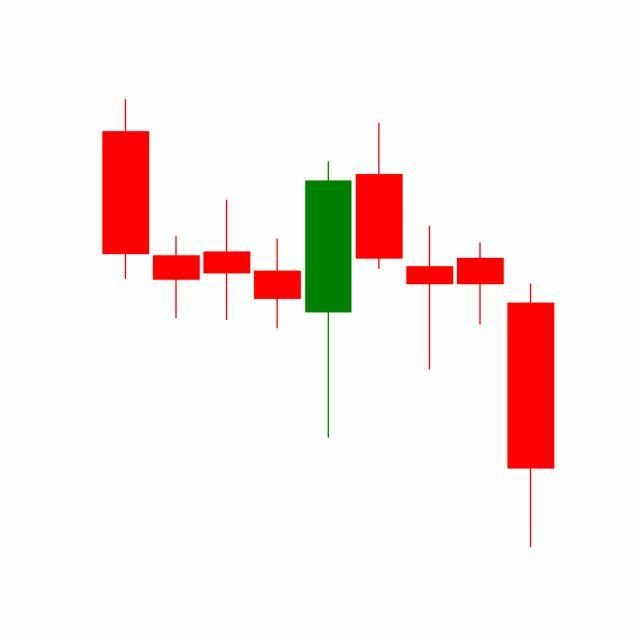Hikkake Pattern: (302, 119, 555, 549)
